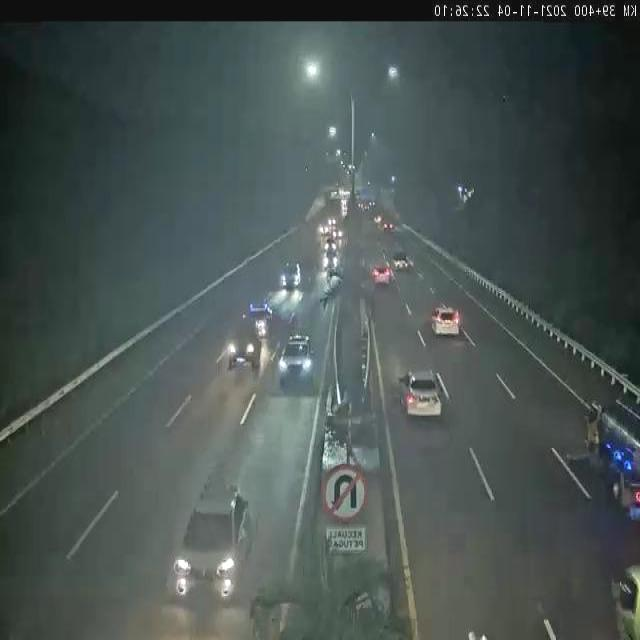Car: (174, 490, 252, 601), (396, 368, 444, 419), (279, 336, 316, 386), (226, 319, 263, 366), (242, 303, 274, 339), (430, 305, 460, 337), (281, 262, 301, 288), (370, 265, 393, 286), (323, 250, 339, 272), (324, 237, 337, 250)
Truck: (582, 392, 640, 517)
